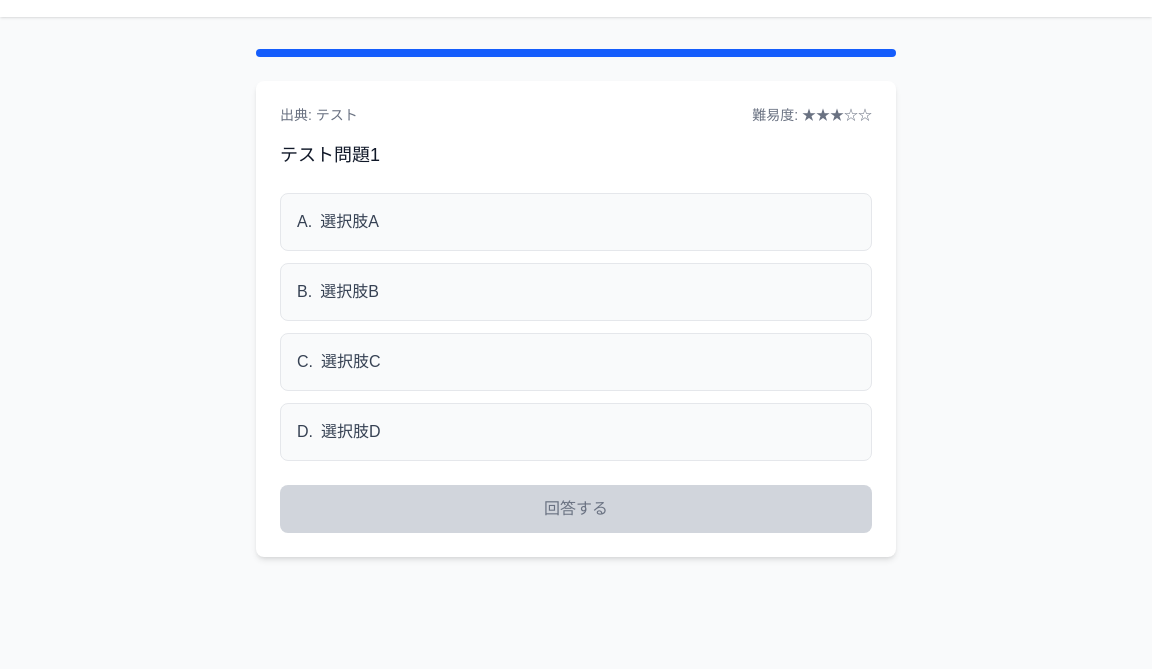
Scenario: ReviewPage › 回答処理 › 回答後に正解/不正解が表示される
Expected: the heading "テスト問題1" is shown, [280, 145, 380, 165]
Click the text "A.".
click(305, 222)  # box [297, 213, 312, 230]
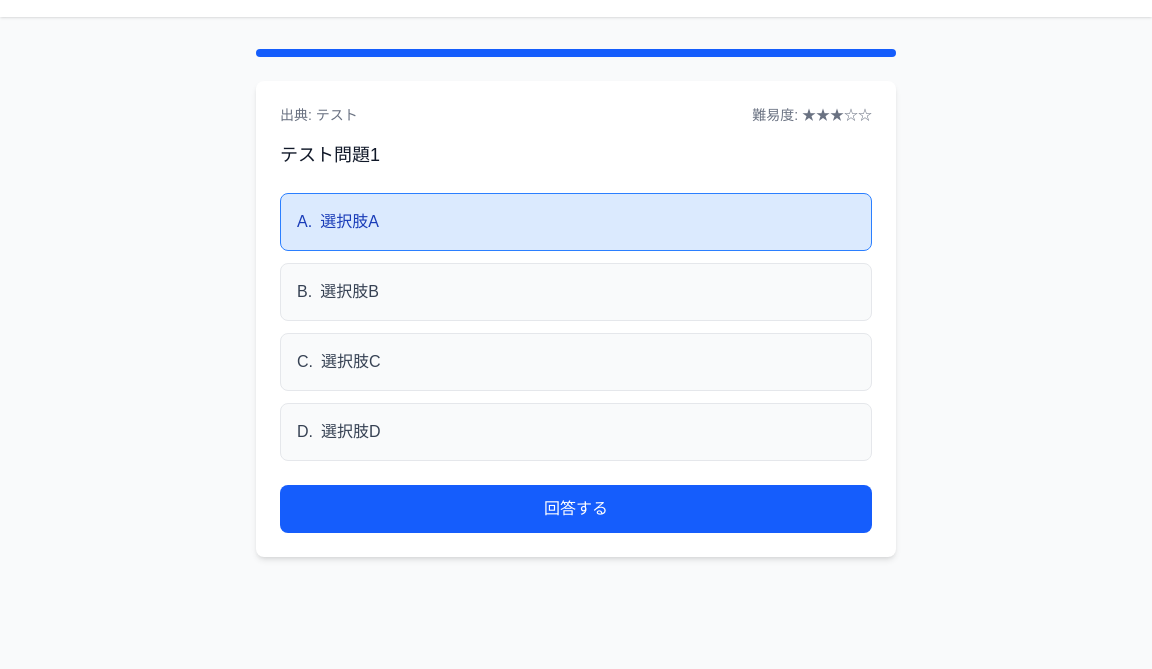
Click the button "回答する".
click(576, 509)  # box [280, 485, 872, 533]
(page scrolled)
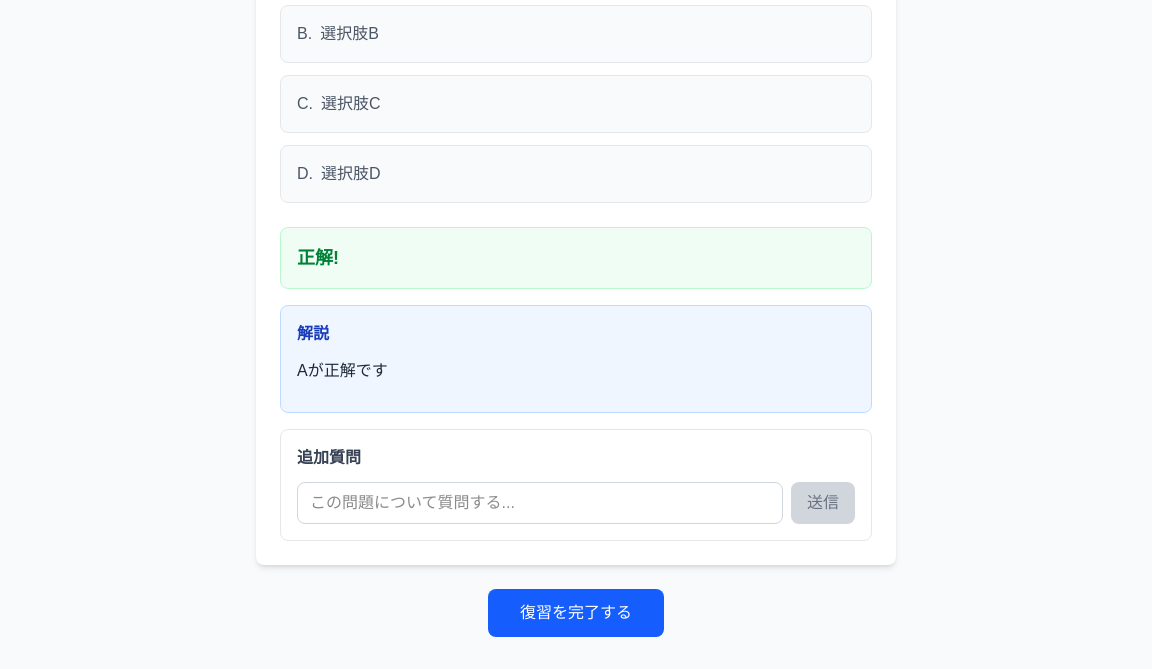
Now the text "正解!" is shown, box [297, 248, 339, 268]
Now the button "復習を完了する" is shown, box [488, 589, 664, 637]
